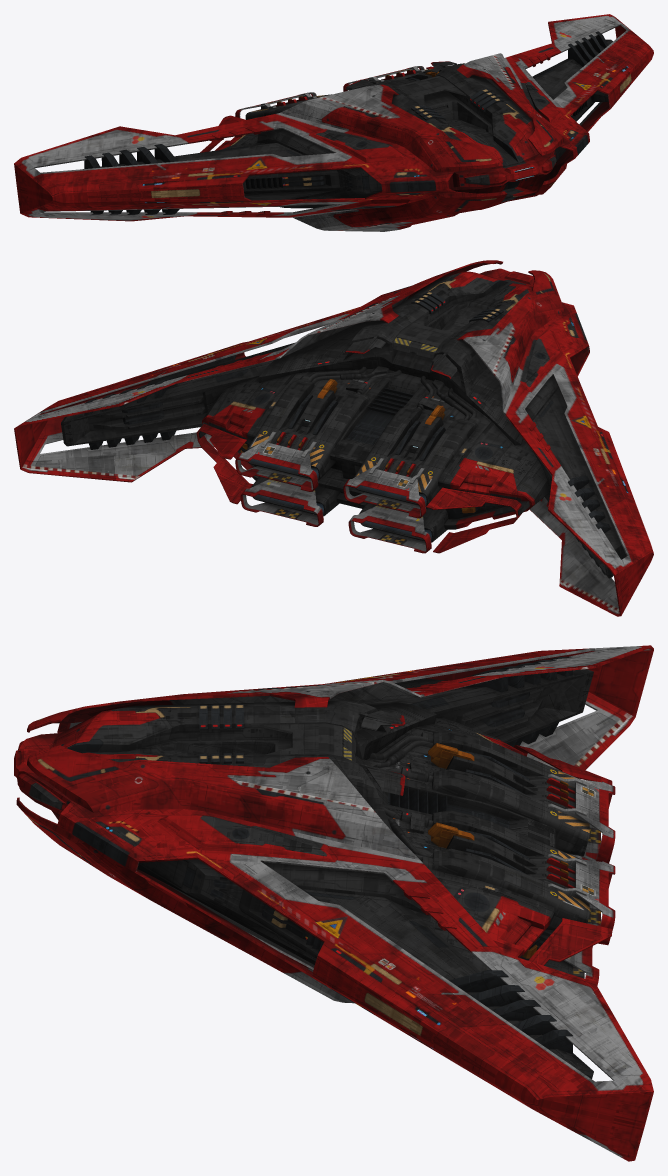
File: pitbull02.fbx
The picture shows the model from 3 angles, top to bottom: view 1: azimuth 30°, elevation 25°; view 2: azimuth 150°, elevation 25°; view 3: azimuth 270°, elevation 25°; orthographic projection. The views are drawn at different scales.
Parts seen in each view (by area): view 1: Takanami_Battlecruiser; view 2: Takanami_Battlecruiser; view 3: Takanami_Battlecruiser.
Boxes of the visible parts, x1,y1,x2,y2 form: Takanami_Battlecruiser: [14, 14, 653, 231]; Takanami_Battlecruiser: [14, 260, 653, 616]; Takanami_Battlecruiser: [14, 645, 653, 1161].
Bounding box in the file's own units: 347 × 82.72 × 211.
